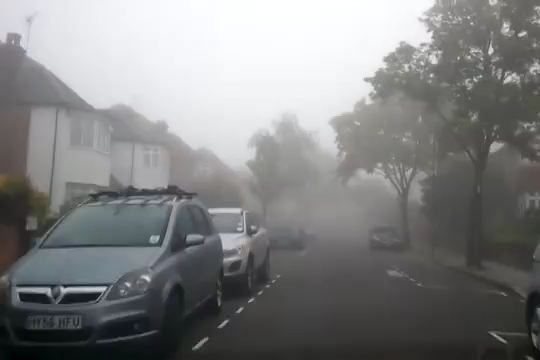car: (1, 183, 225, 360), (174, 205, 271, 293), (266, 221, 308, 250), (367, 220, 405, 249)
